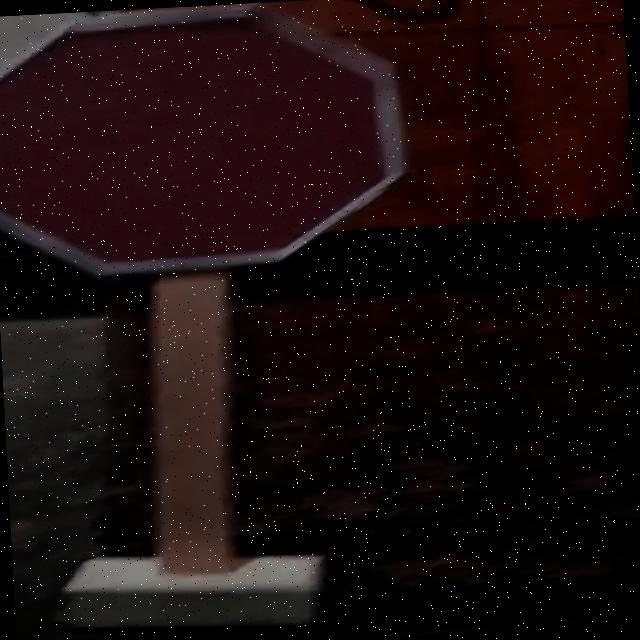Stop: (0, 0, 451, 291)
